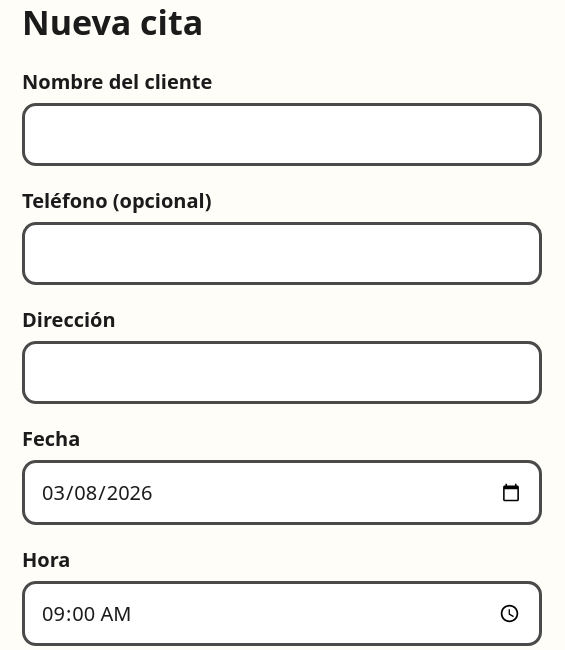
Test: appointment form › explains the daylight-saving problem in plain Spanish
Type "Ana" into the field labelled "Nombre del cliente" at x=282, y=135, box [22,103,542,166]
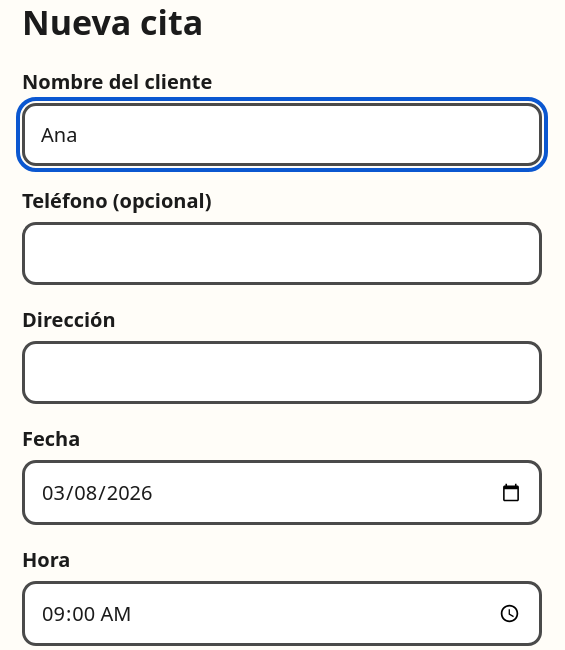
Type "Calle 1" into the field labelled "Dirección" at x=282, y=373, box [22,341,542,404]
(page scrolled)
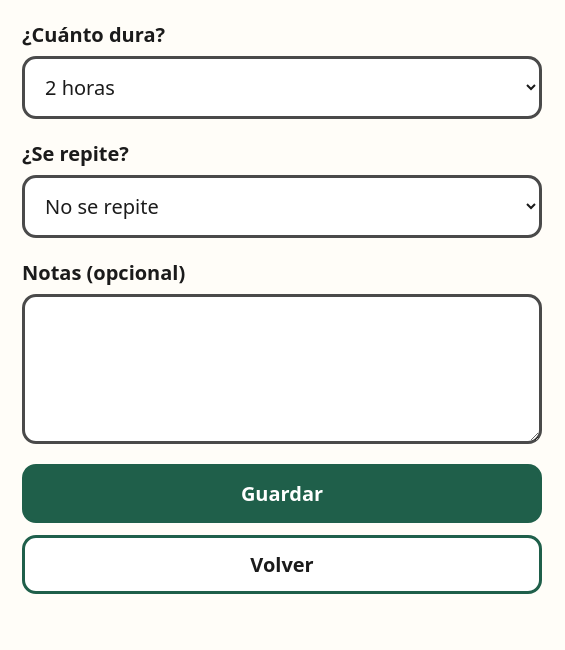
Click the button "Guardar" at x=282, y=494, box [22,464,542,523]
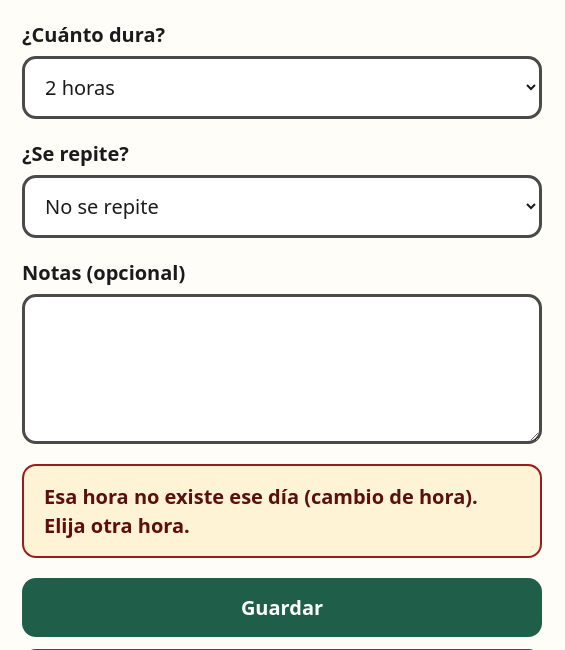
Expected: the message shows "Esa hora no existe ese día", [44,483,478,539]
